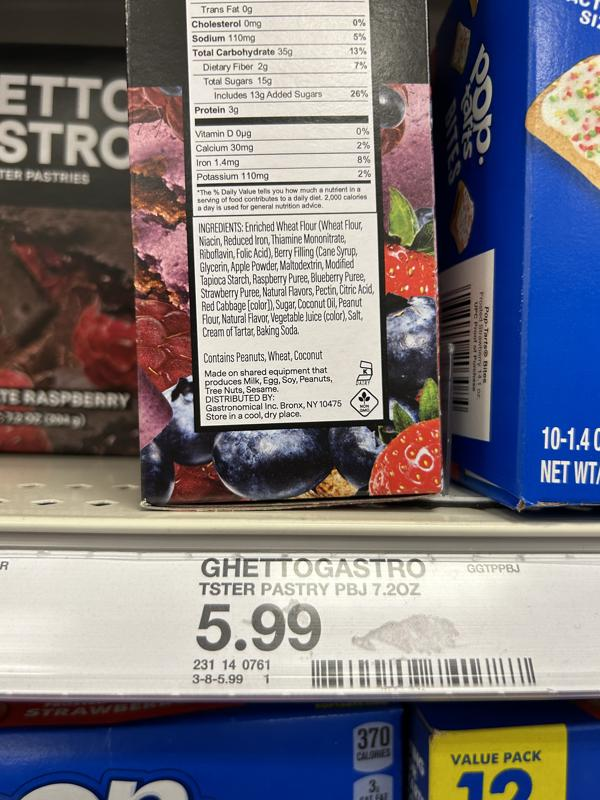ingredients: (196, 218, 377, 340)
